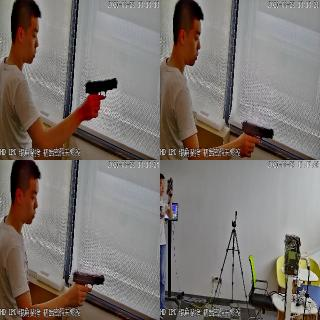gun: (80, 72, 118, 118), (236, 117, 274, 153), (68, 266, 103, 302), (165, 175, 173, 198)
